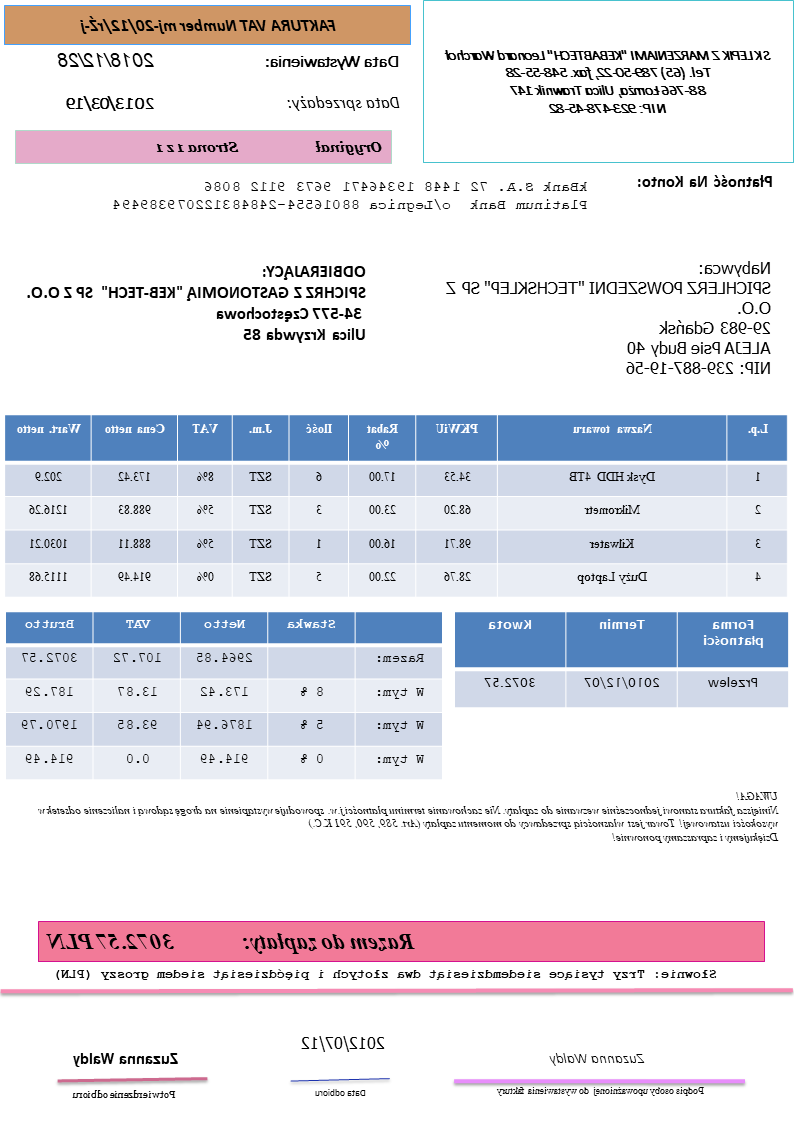Table: (2, 410, 790, 600), (3, 608, 445, 781), (453, 608, 790, 709)
TextBox: (33, 787, 781, 846), (443, 257, 774, 379), (24, 261, 371, 346), (440, 45, 774, 119), (109, 176, 592, 214), (53, 965, 720, 983), (43, 926, 419, 956), (153, 136, 385, 160), (76, 15, 339, 36), (493, 1081, 708, 1099), (262, 49, 403, 74), (283, 90, 406, 114), (633, 172, 776, 191), (55, 48, 157, 74), (69, 1046, 183, 1069), (70, 1083, 178, 1104), (546, 1047, 650, 1068), (299, 1031, 391, 1054), (63, 93, 159, 114), (312, 1082, 370, 1102)
